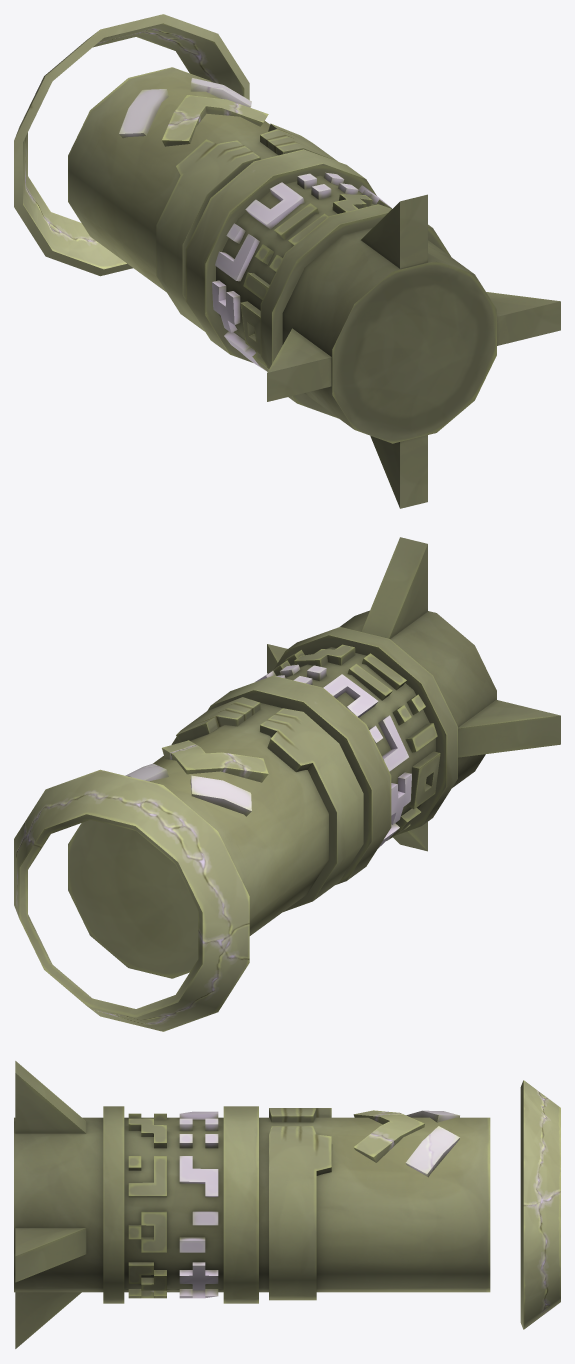
Rendered from Totem_Rock.FBX.
The picture shows the model from 3 angles, top to bottom: view 1: azimuth 30°, elevation 25°; view 2: azimuth 150°, elevation 25°; view 3: azimuth 270°, elevation 25°; orthographic projection. The views are drawn at different scales.
Parts seen in each view (by area): view 1: Totem_05; view 2: Totem_05; view 3: Totem_05.
Part boxes in pixels (x1,y1,x2,y2): Totem_05: (14,14,560,508); Totem_05: (14,537,560,1031); Totem_05: (14,1061,560,1348).
Bounding box in the file's own units: 8 × 14.31 × 8.
